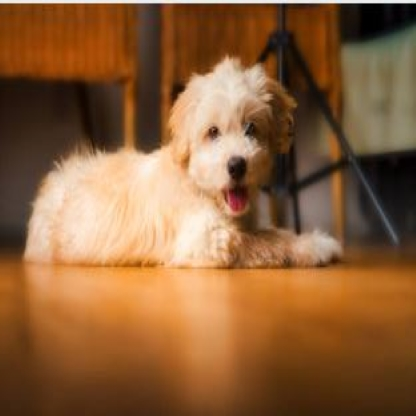maltese: (25, 53, 346, 271)
